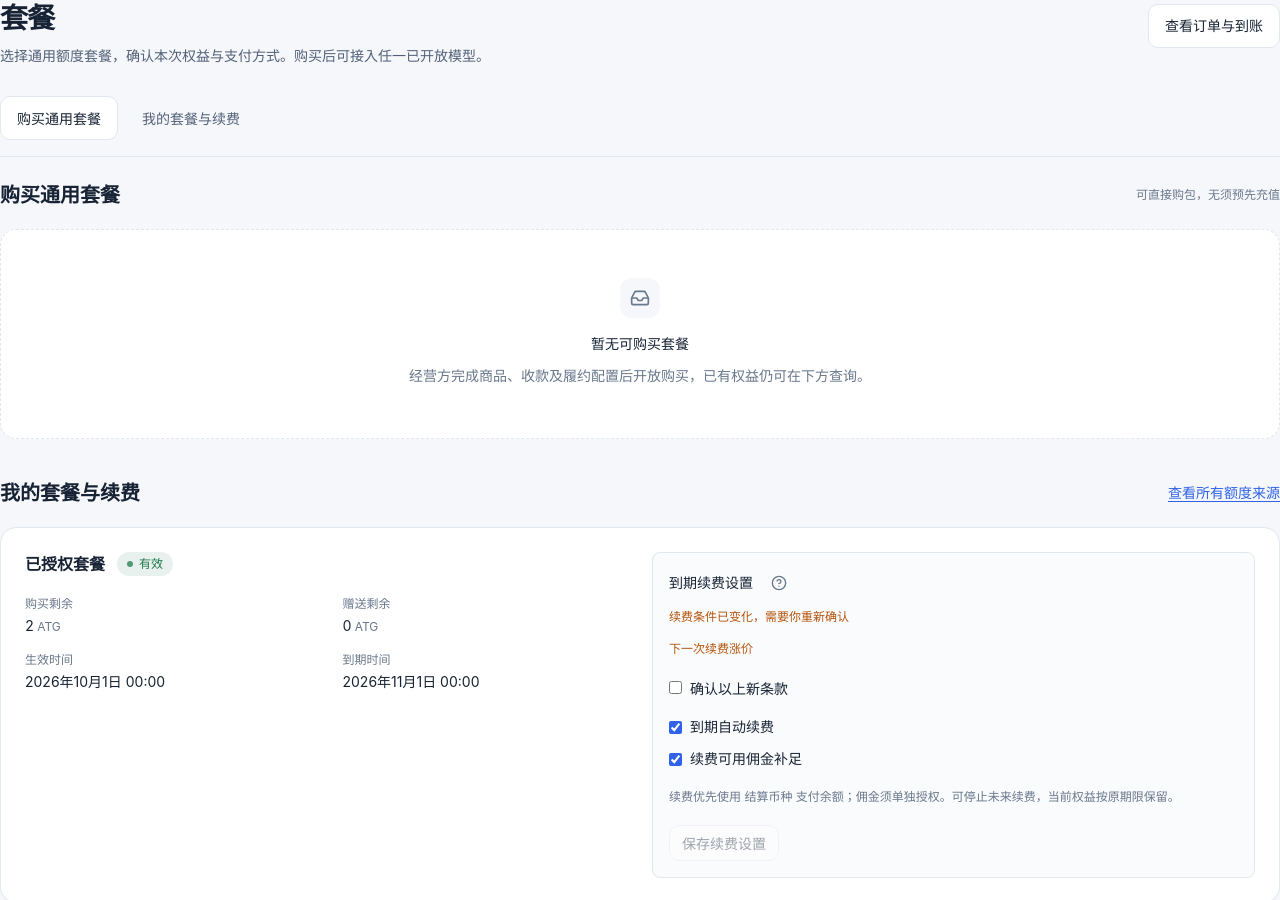
Test: allows stopping renewal without accepting changed terms and clears future commission permission
Click the checkbox labelled "到期自动续费" at (676, 727), box [669,721,682,734]
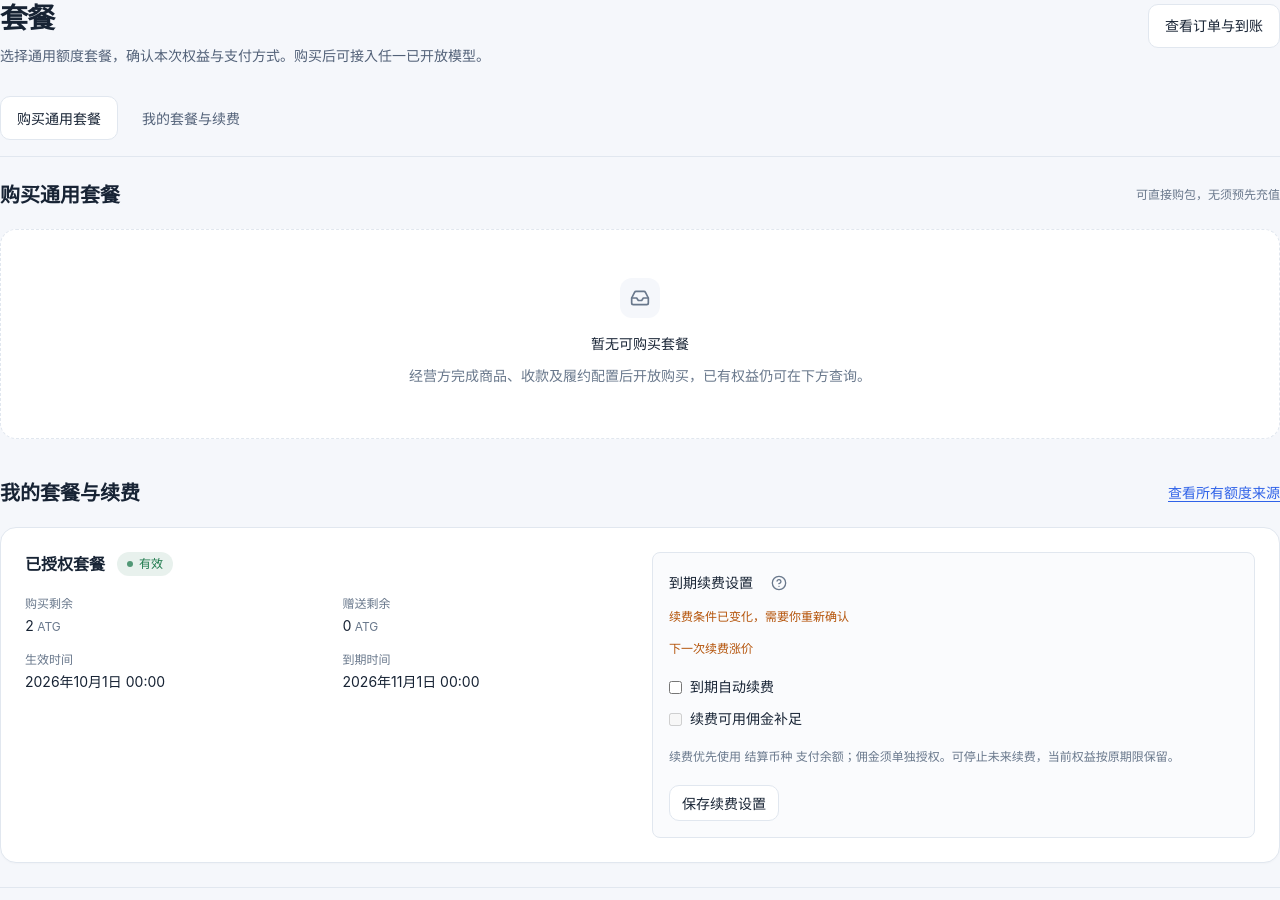
Expected: the checkbox labelled "续费可用佣金补足" is not checked, [669,713,682,726]
Click the button "保存续费设置" at (724, 803), box [669,785,779,821]
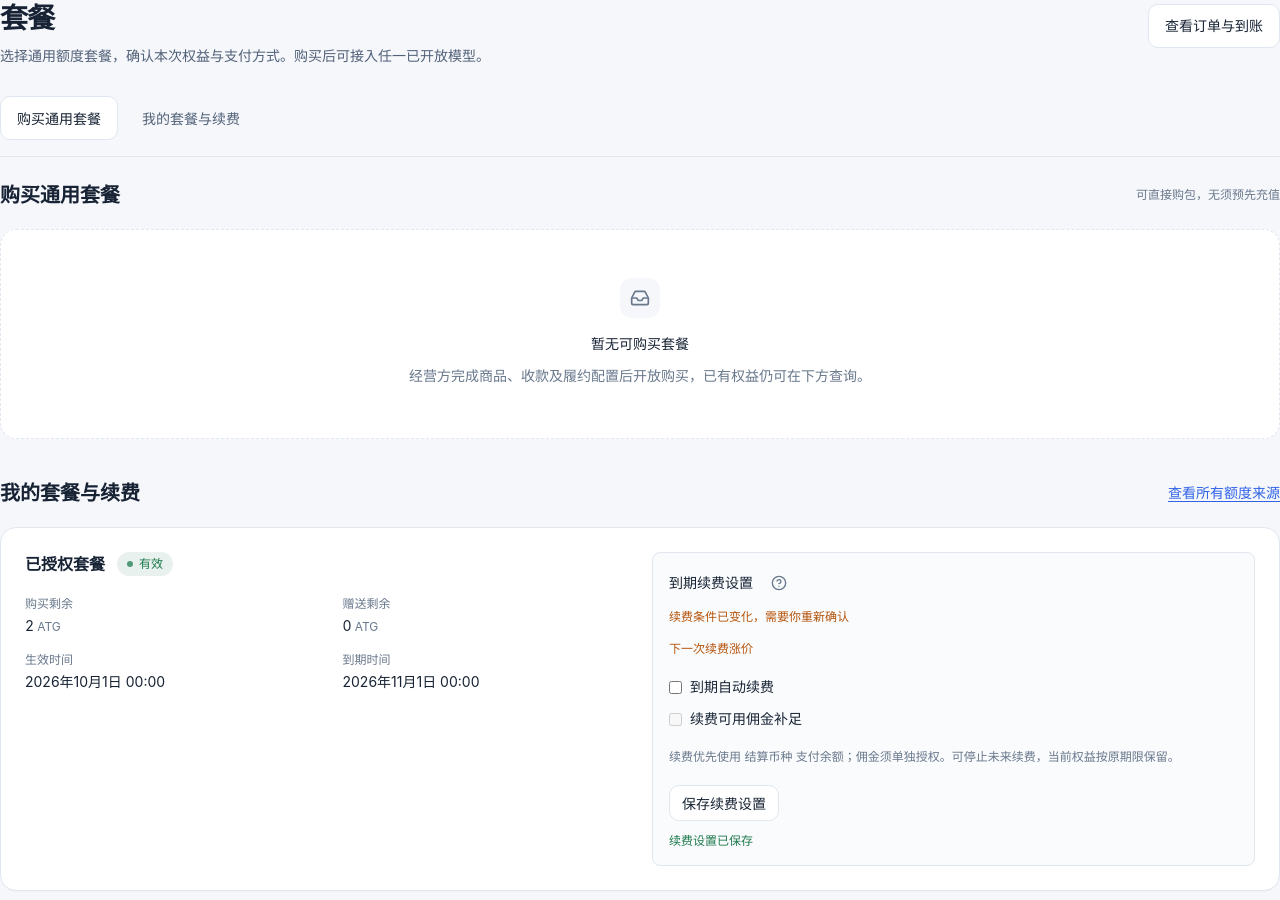
Expected: the text "续费设置已保存" is shown, [669,833,753,848]
